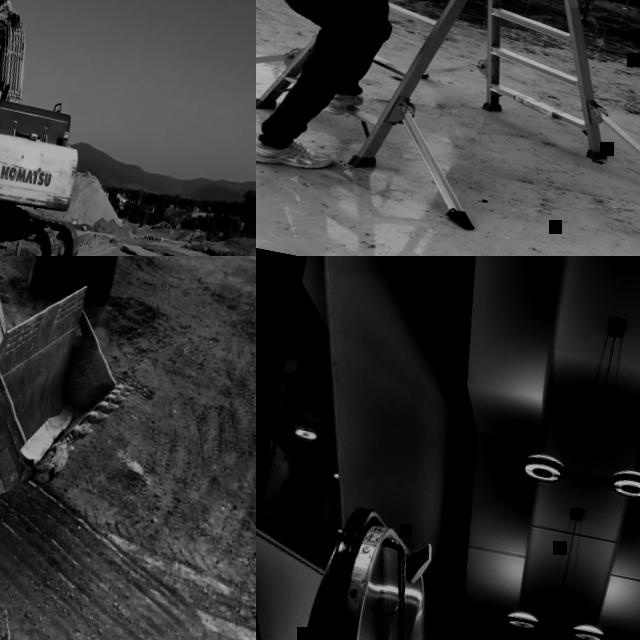Person: (256, 0, 520, 202)
machinery: (0, 256, 155, 560), (0, 0, 124, 256), (19, 256, 150, 318)
